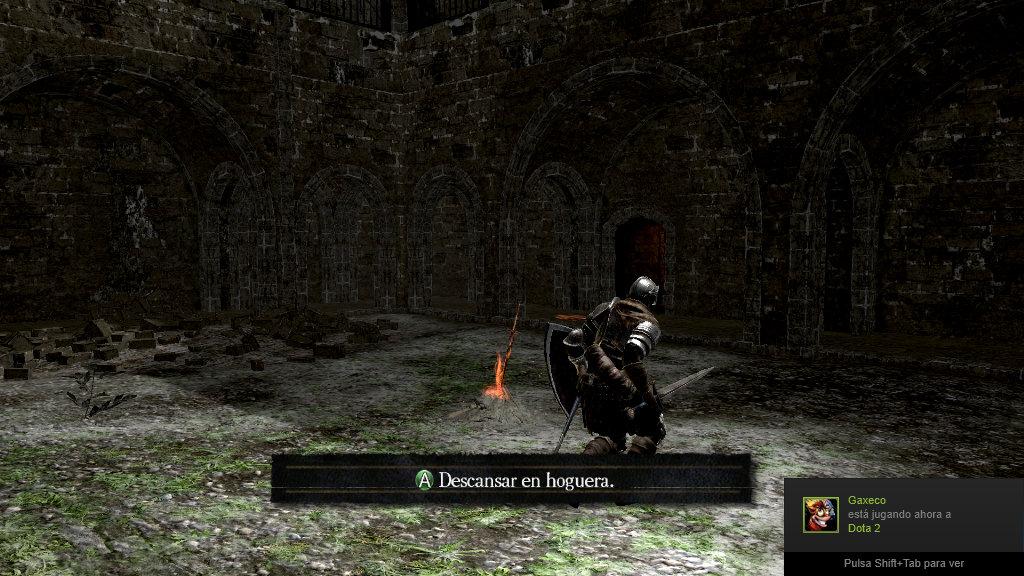bonfire: (473, 299, 527, 416)
dialogBox: (274, 453, 750, 500)
player: (542, 276, 713, 452)
